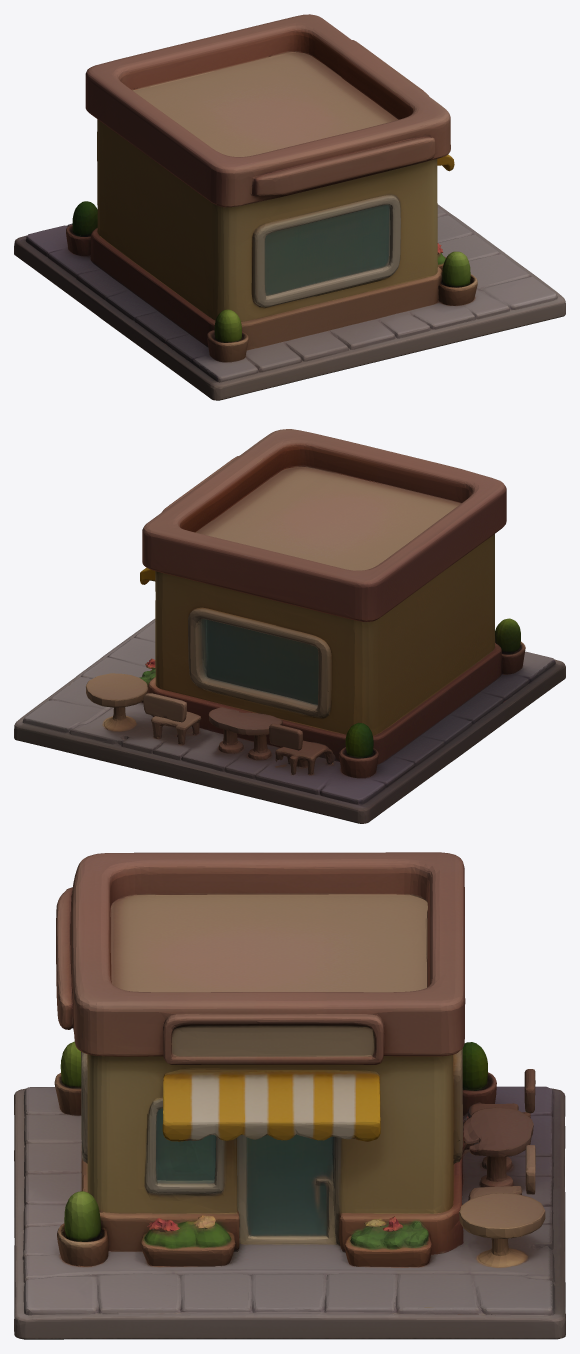
The model's file is edificio_cafe.glb.
The picture shows the model from 3 angles, top to bottom: view 1: azimuth 30°, elevation 25°; view 2: azimuth 150°, elevation 25°; view 3: azimuth 270°, elevation 25°; orthographic projection. The views are drawn at different scales.
Parts seen in each view (by area): view 1: world; view 2: world; view 3: world.
Part boxes in pixels (x1,y1,x2,y2): world: [14, 14, 565, 400]; world: [14, 429, 565, 823]; world: [14, 852, 565, 1339].
Bounding box in the file's own units: 1 × 0.5549 × 0.9988.
1 material, 1 textured.
